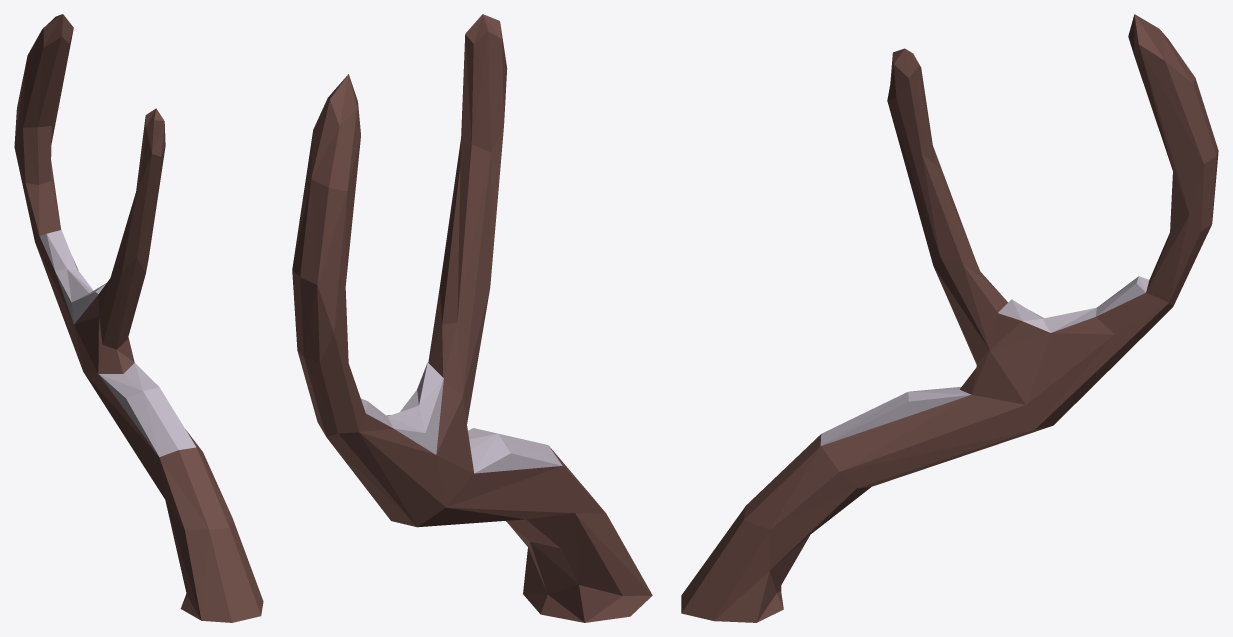
The model's file is Willow_Dead_Snow_3.lod1.glb.
3 views of the same model, side by side, from view 1: azimuth 30°, elevation 25°; view 2: azimuth 150°, elevation 25°; view 3: azimuth 270°, elevation 25° (orthographic). The views are drawn at different scales.
Parts seen in each view (by area): view 1: Willow_Dead_Snow_3; view 2: Willow_Dead_Snow_3; view 3: Willow_Dead_Snow_3.
Boxes of the visible parts, x1=… form: Willow_Dead_Snow_3: x1=14, y1=14, x2=263, y2=622; Willow_Dead_Snow_3: x1=292, y1=14, x2=652, y2=622; Willow_Dead_Snow_3: x1=681, y1=14, x2=1218, y2=622.
Size of the model in its own units: 0.2951 by 1.9 by 1.57.
